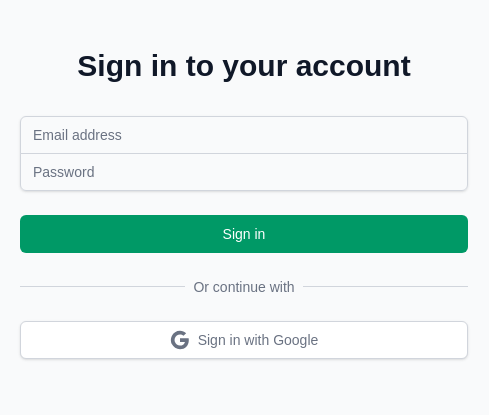
Scenario: LoginForm Component › Edge Cases › should display error message on login failure
Type "test@example.com" into the field labelled "Email address". click: coordinates (244, 134)
box: [20,116,468,154]
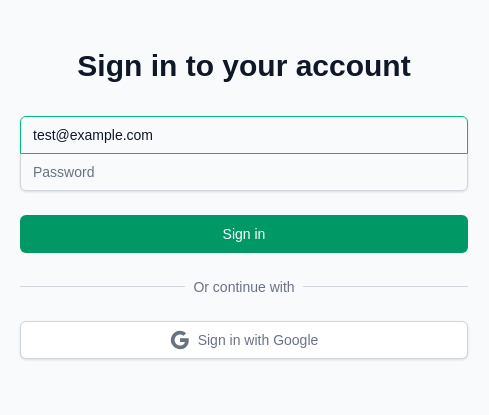
Type "wrongpassword" into the password field labelled "Password". click: coordinates (244, 172)
box: [20,152,468,190]
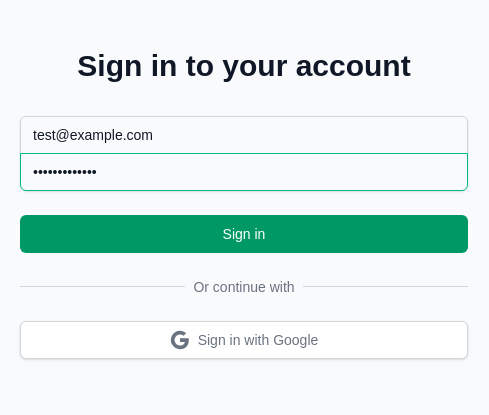
Click the button "Sign in". click: coordinates (244, 234)
box: [20,214,468,252]
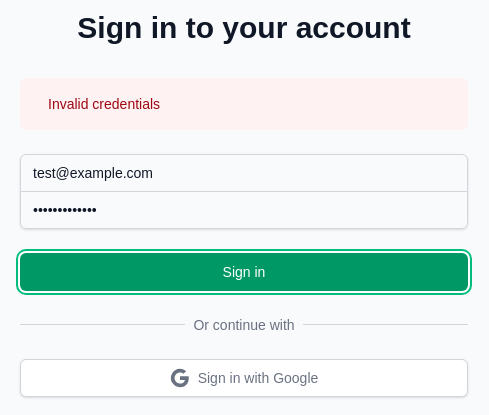
Expected: the heading "Invalid credentials" is shown, [48,94,160,114]
